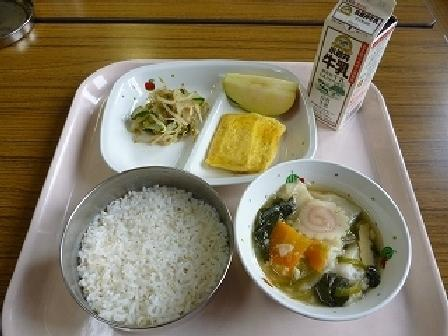Apple: (215, 57, 300, 116)
Milk: (300, 1, 405, 125)
Rice: (63, 162, 233, 321)
Salad: (130, 77, 209, 148)
Soups: (240, 170, 403, 311)
egg product: (201, 107, 289, 178)
